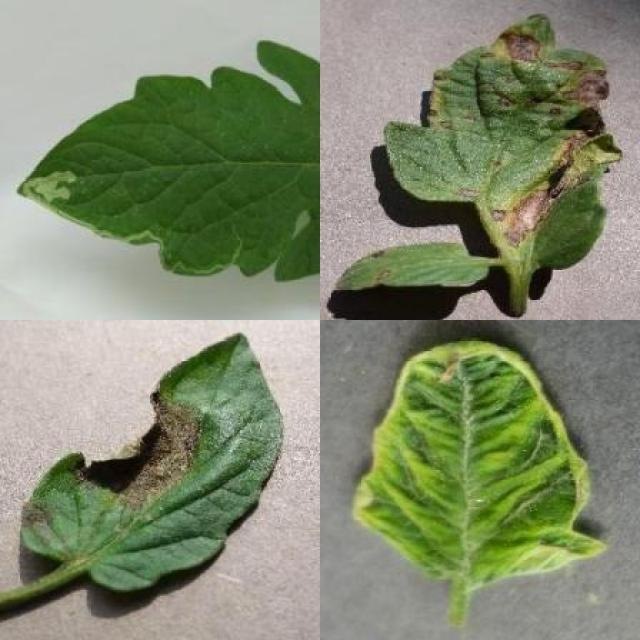Early Blight: (384, 15, 624, 271)
Late Blight: (23, 331, 286, 593)
Leaf Miner: (15, 39, 319, 282)
Yellow Leaf Curl Virus: (351, 338, 608, 588)
